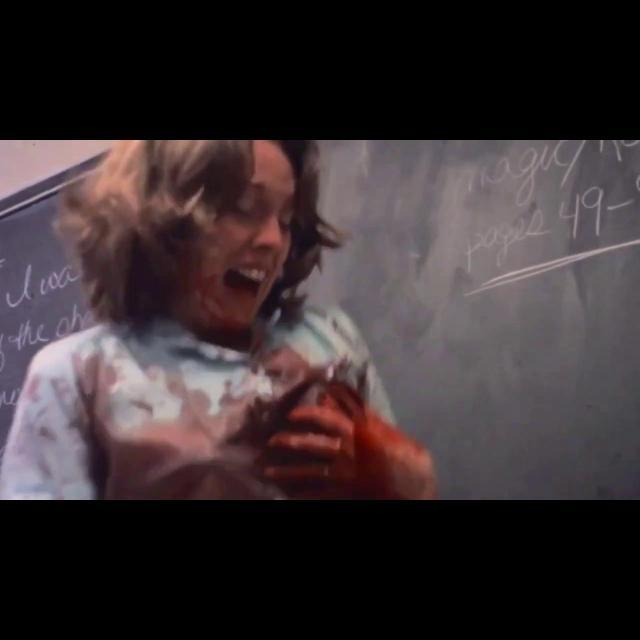blood: (0, 264, 436, 500)
